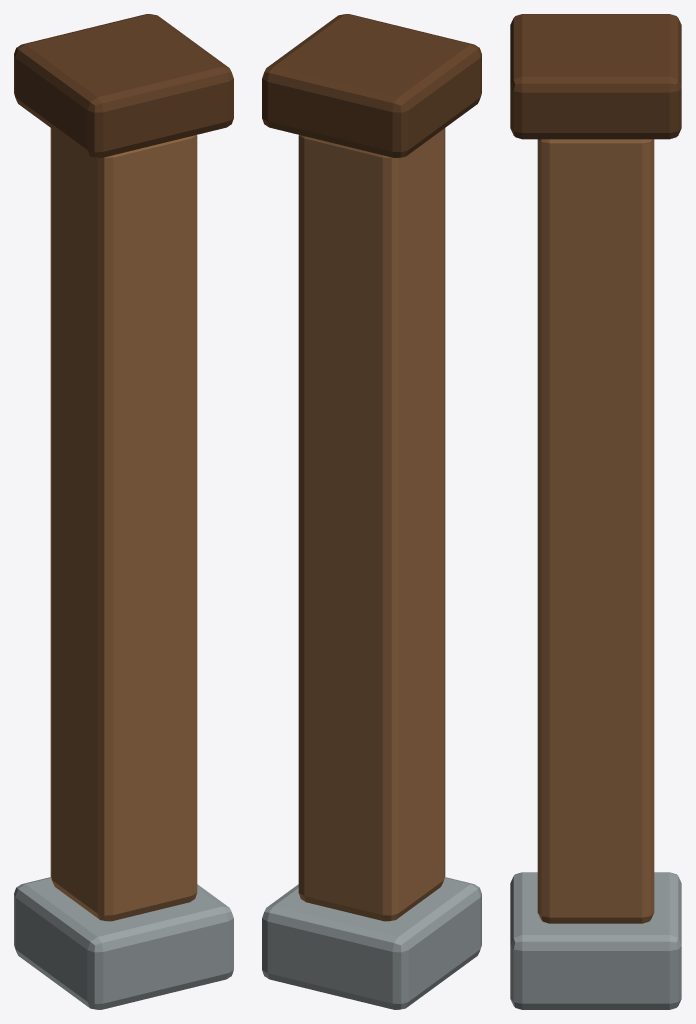
Rendered from pillar_0p5x3.glb.
3 renders of one model, left to right at view 1: azimuth 30°, elevation 25°; view 2: azimuth 150°, elevation 25°; view 3: azimuth 270°, elevation 25°, orthographic. The views are drawn at different scales.
Parts seen in each view (by area): view 1: pillar_shaft, pillar_cap, pillar_foot; view 2: pillar_shaft, pillar_cap, pillar_foot; view 3: pillar_shaft, pillar_cap, pillar_foot.
Part boxes in pixels (<box>): pillar_shaft: <box>50,128,197,921</box>; pillar_cap: <box>14,14,233,157</box>; pillar_foot: <box>14,877,233,1009</box>; pillar_shaft: <box>298,128,445,921</box>; pillar_cap: <box>262,14,481,157</box>; pillar_foot: <box>262,877,481,1009</box>; pillar_shaft: <box>537,139,654,923</box>; pillar_cap: <box>510,14,681,139</box>; pillar_foot: <box>510,872,681,1009</box>.
Size of the model in its own units: 0.5 by 3 by 0.5.
